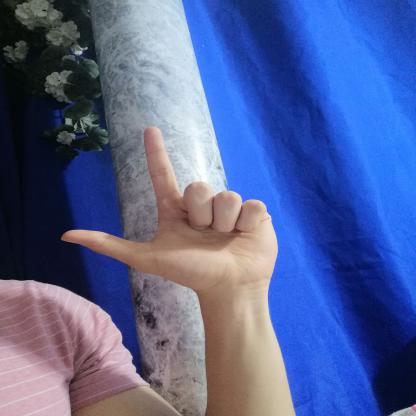LAAM: (44, 115, 292, 305)
